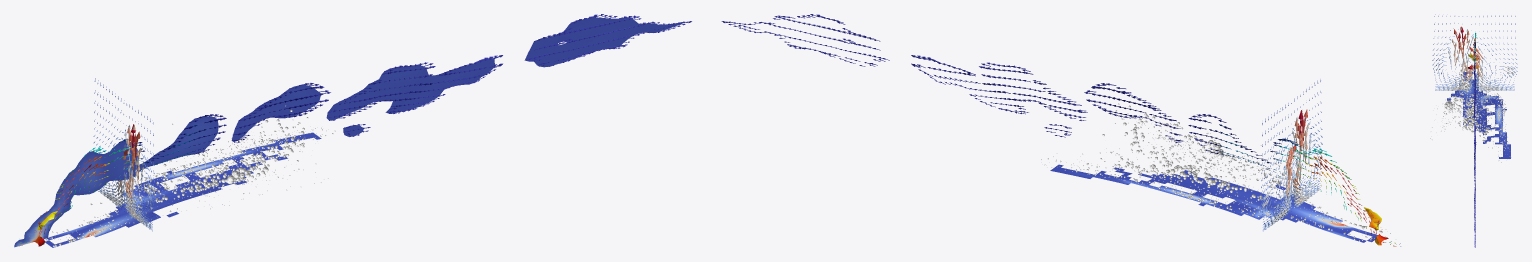
File: spot-canyon.gltf
3 renders of one model, left to right at view 1: azimuth 30°, elevation 25°; view 2: azimuth 150°, elevation 25°; view 3: azimuth 270°, elevation 25°, orthographic. The views are drawn at different scales.
Visible parts, largest first — view 1: Renderer Node; view 2: Renderer Node; view 3: Renderer Node.
Part boxes in pixels (x1,y1,x2,y2): Renderer Node: (14,14,691,247); Renderer Node: (721,14,1400,246); Renderer Node: (1430,14,1517,247).
Size of the model in its own units: 10.85 by 1.88 by 1.76.
6 materials, 5 textured.
